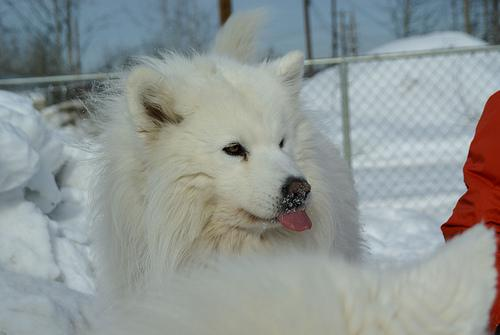dog-samoyed: (124, 49, 310, 230)
